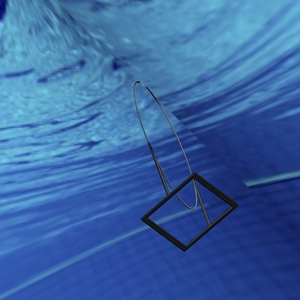circle: (128, 76, 240, 252)
